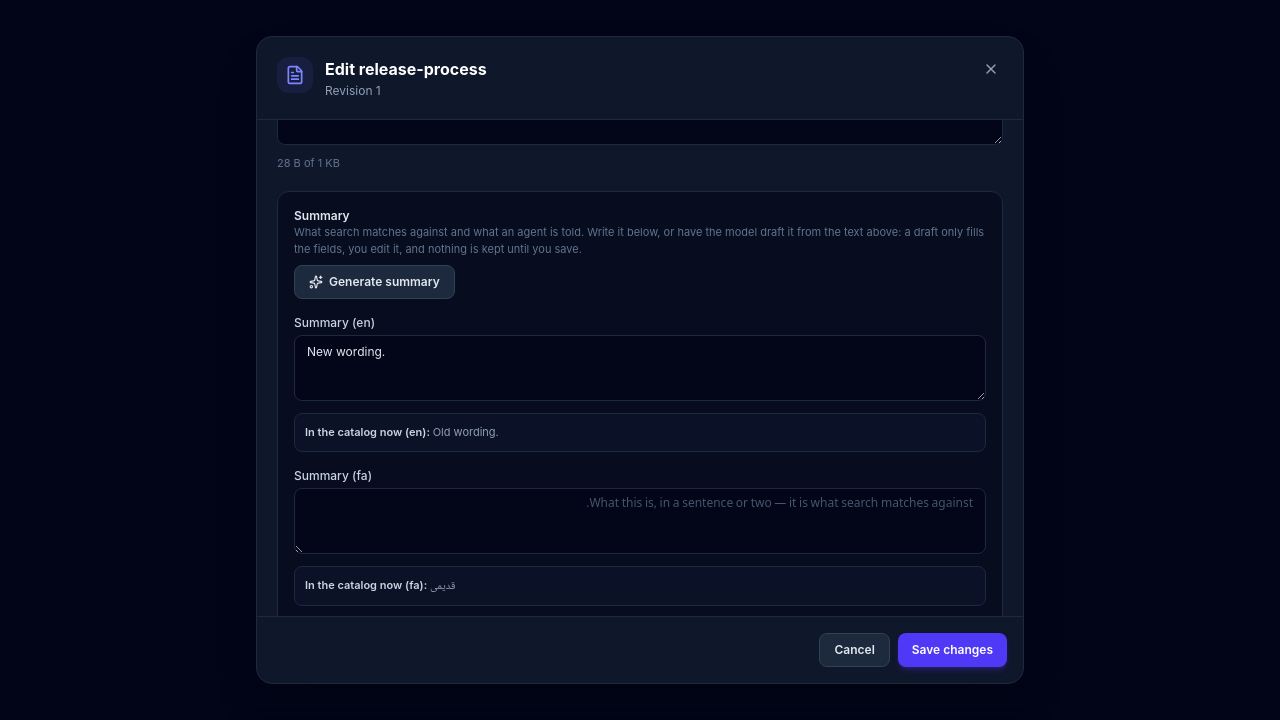
Test: FormEditorModal › shows the summary the catalog serves beside the one being edited, once the record is published
(page scrolled)
Expected: the text "In the catalog now (en):" is shown, [305,425,433,439]
Expected: the text "Old wording." is shown, [433,425,499,439]
Replace the text in the text box labelled "Summary (en)" with "Old wording.". click: (640, 368)
box: [294,335,986,401]
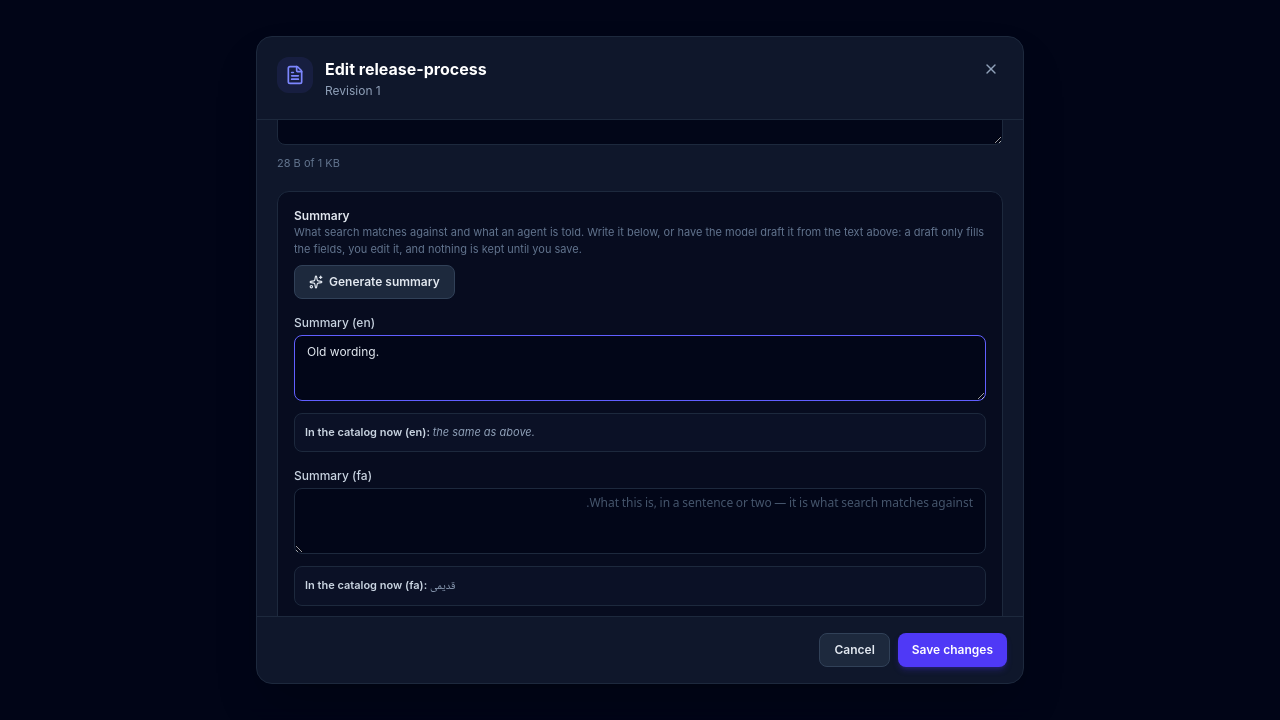
Expected: the text "the same as above." is shown, [433,425,535,439]
